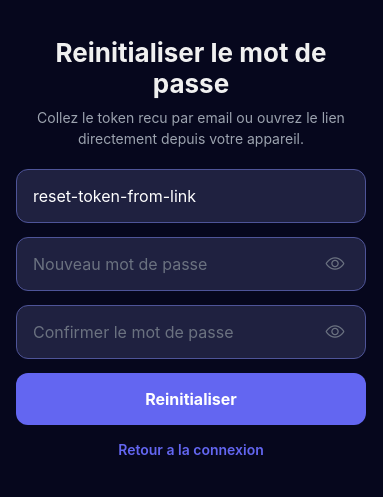
Test: ResetPasswordScreen › shows error when password is shorter than 8 characters
This screenshot has width=383, height=497.
Step 1. Type "short" into the password field with test id "reset-password-input" → coordinates (177, 264), box 33,238 -> 321,290
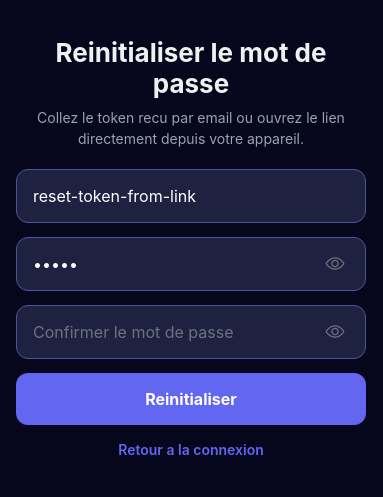
Step 2. Click the element with test id "reset-submit-button" → coordinates (191, 398), box 16,372 -> 366,424
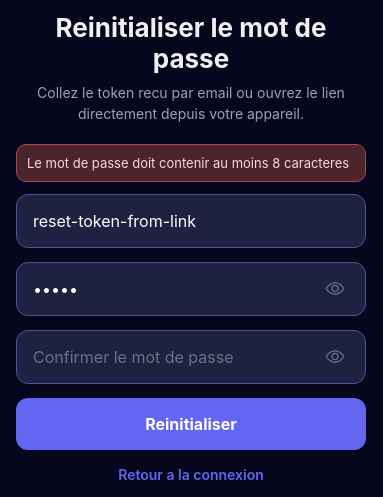
Now the text "Le mot de passe doit contenir au moins 8 caracteres" is shown, box 27,154 -> 355,170
